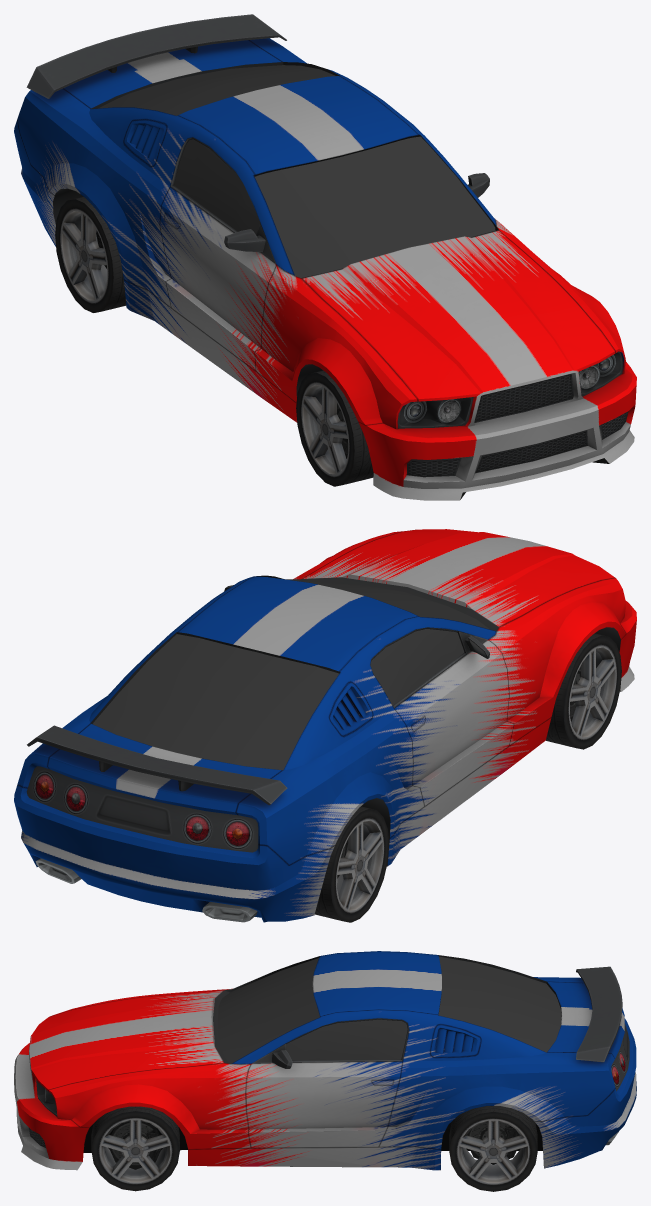
File: car_5.FBX
3 renders of one model, top to bottom at view 1: azimuth 30°, elevation 25°; view 2: azimuth 150°, elevation 25°; view 3: azimuth 270°, elevation 25°, orthographic. The views are drawn at different scales.
Parts seen in each view (by area): view 1: Body_7, Matte_6, Wheel_R, Wheel_Back_R; view 2: Body_7, Matte_6, Wheel_R, Wheel_Back_R, Taillights_6; view 3: Body_7, Matte_6, Wheel_Back_L, Wheel_L.
Part boxes in pixels (x1,y1,x2,y2): Body_7: [14, 38, 636, 500]; Matte_6: [26, 14, 628, 499]; Wheel_R: [296, 370, 373, 486]; Wheel_Back_R: [55, 196, 126, 312]; Body_7: [14, 529, 636, 922]; Matte_6: [26, 575, 620, 922]; Wheel_R: [546, 633, 621, 749]; Wheel_Back_R: [315, 806, 389, 922]; Taillights_6: [35, 774, 249, 845]; Body_7: [14, 951, 636, 1170]; Matte_6: [28, 955, 629, 1169]; Wheel_Back_L: [449, 1106, 537, 1191]; Wheel_L: [91, 1106, 179, 1191].
Bounding box in the file's own units: 1.9 × 1.39 × 4.77.
2 materials, 2 textured.
